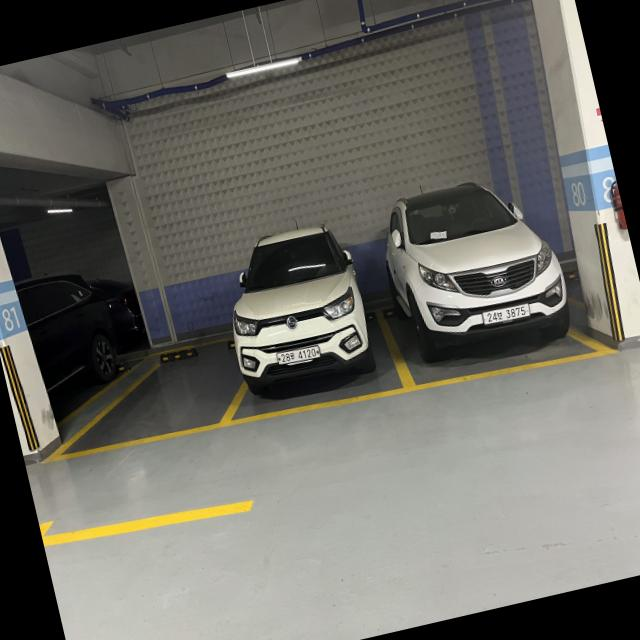car: (376, 168, 601, 394), (231, 224, 412, 422)
free: (56, 348, 240, 450)
